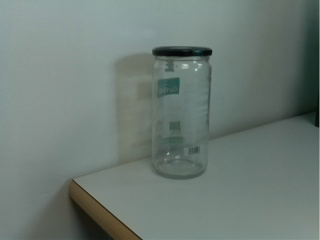pote cristal: (147, 43, 216, 182)
